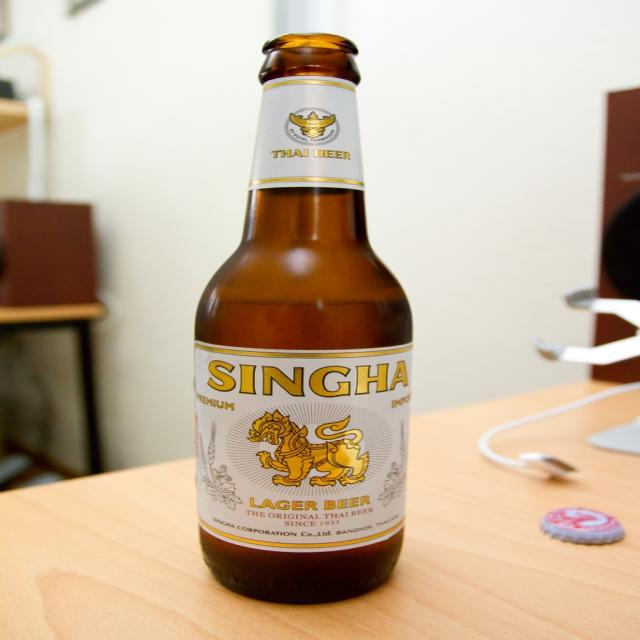singha: (196, 343, 414, 548)
